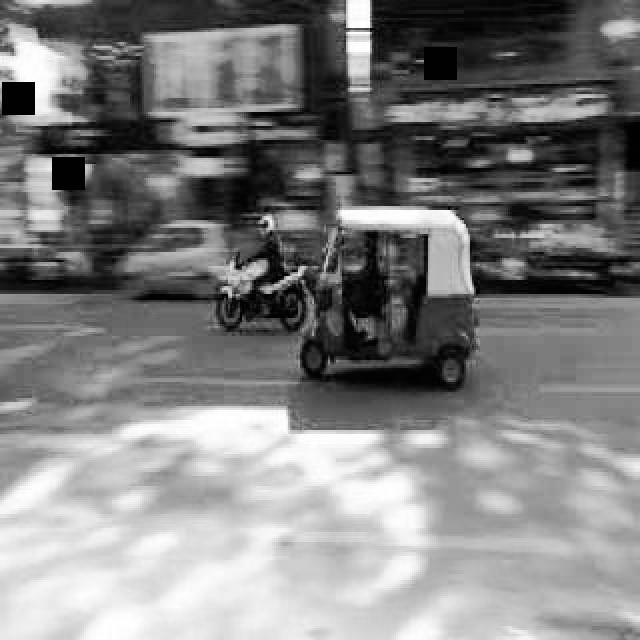Auto-Rickshaw: (282, 206, 504, 400)
Bike: (213, 225, 307, 335)
